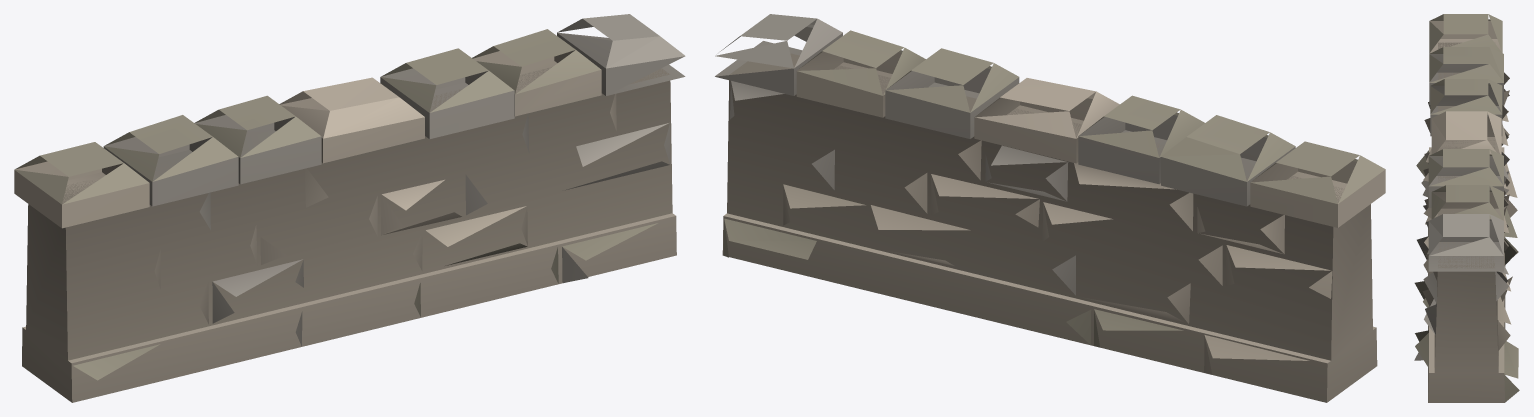
File: swall.lod.glb
3 views of the same model, side by side, from view 1: azimuth 30°, elevation 25°; view 2: azimuth 150°, elevation 25°; view 3: azimuth 270°, elevation 25° (orthographic). The views are drawn at different scales.
Visible parts, largest first — view 1: swall; view 2: swall; view 3: swall.
Boxes of the visible parts, left/top/right/bottom form: swall: left=14, top=14, right=685, bottom=402; swall: left=715, top=14, right=1385, bottom=402; swall: left=1414, top=14, right=1519, bottom=402.
Size of the model in its own units: 4 by 1.36 by 0.7691.
